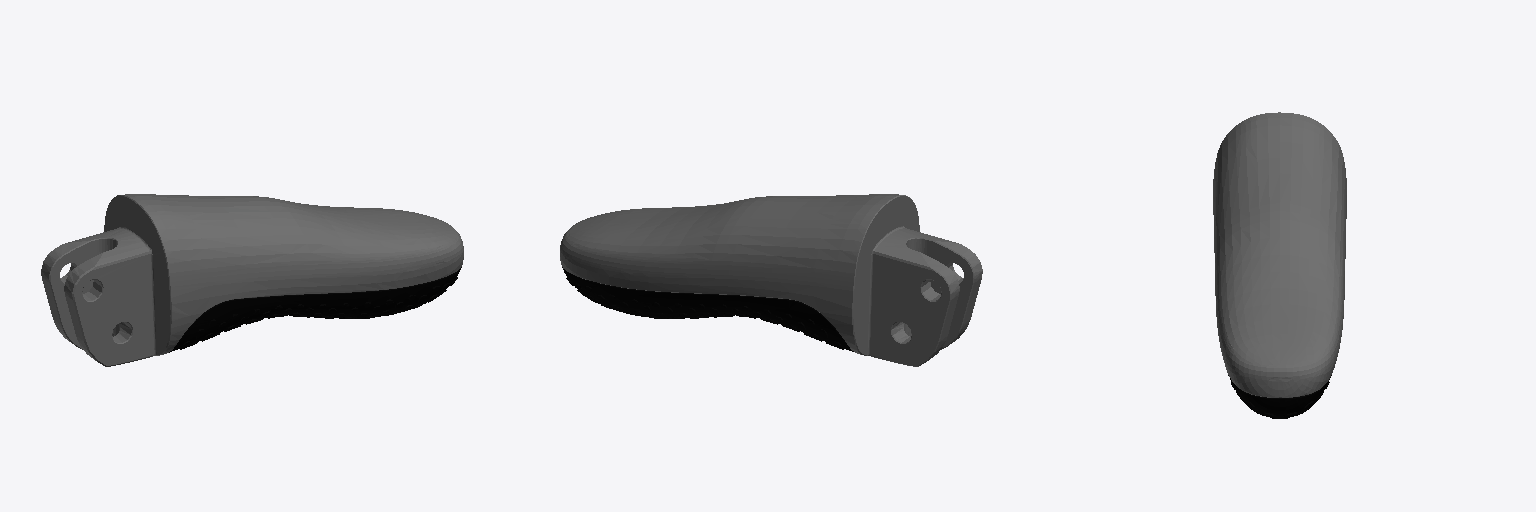
Rendered from R_index_intermediate_link.obj.
3 renders of one model, left to right at view 1: azimuth 30°, elevation 25°; view 2: azimuth 150°, elevation 25°; view 3: azimuth 270°, elevation 25°, orthographic.
Visible parts, largest first — view 1: R_index_intermediate_link; view 2: R_index_intermediate_link; view 3: R_index_intermediate_link.
Boxes of the visible parts, x1=… form: R_index_intermediate_link: x1=41, y1=194, x2=463, y2=366; R_index_intermediate_link: x1=560, y1=194, x2=982, y2=366; R_index_intermediate_link: x1=1213, y1=112, x2=1346, y2=418.
Bounding box in the file's own units: 0.0498 × 0.0202 × 0.0145.